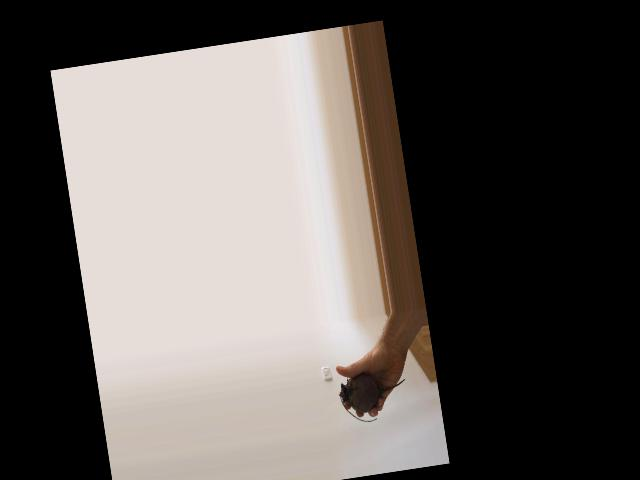beet: (336, 368, 411, 426)
